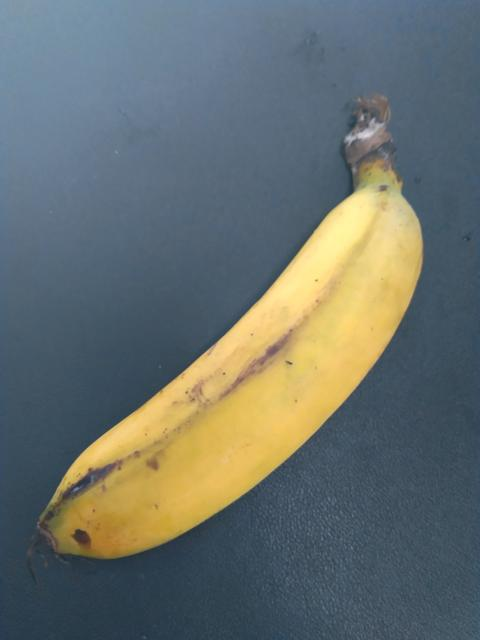freshripe: (19, 170, 422, 611)
